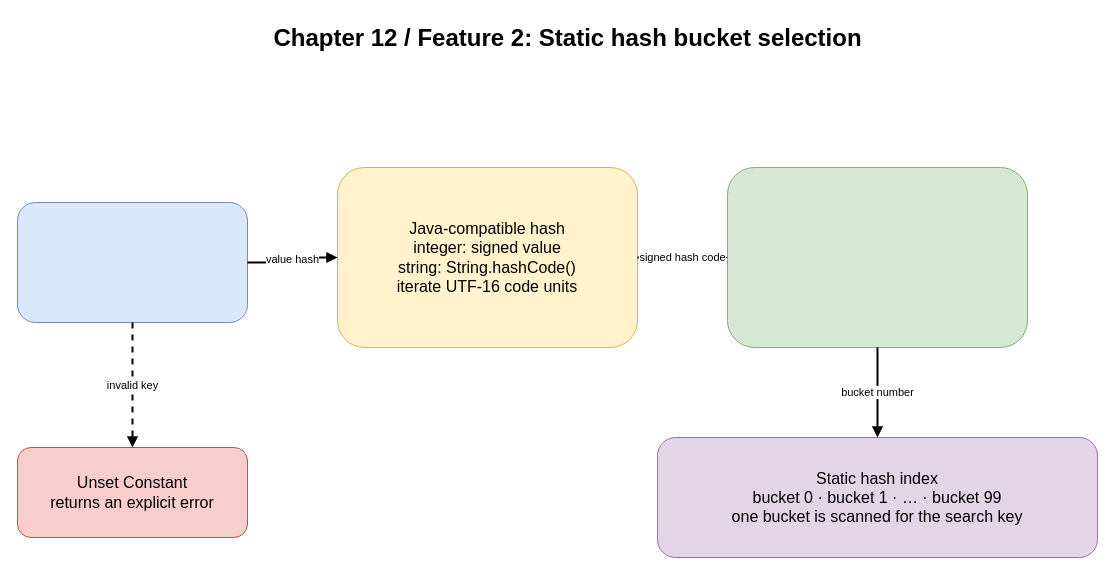
This 1115x575 diagram has some shape labels left out. The shapes that lost their labels are listed below. From the top down, each one's box as (x1, y1, x2, y2) in pixels, then its label:
(16, 202, 248, 322): query.Constant int32 key string key
(726, 166, 1028, 348): BucketNumber hash % 100 normalize negative remainder result is in [0, 100)
